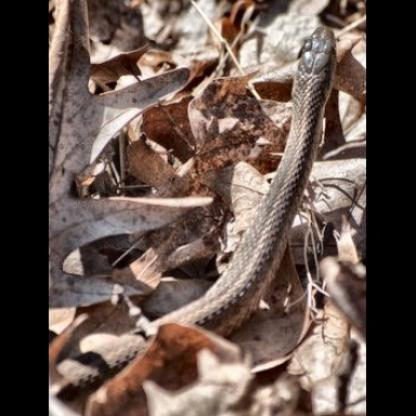Snake: (90, 24, 336, 379)
